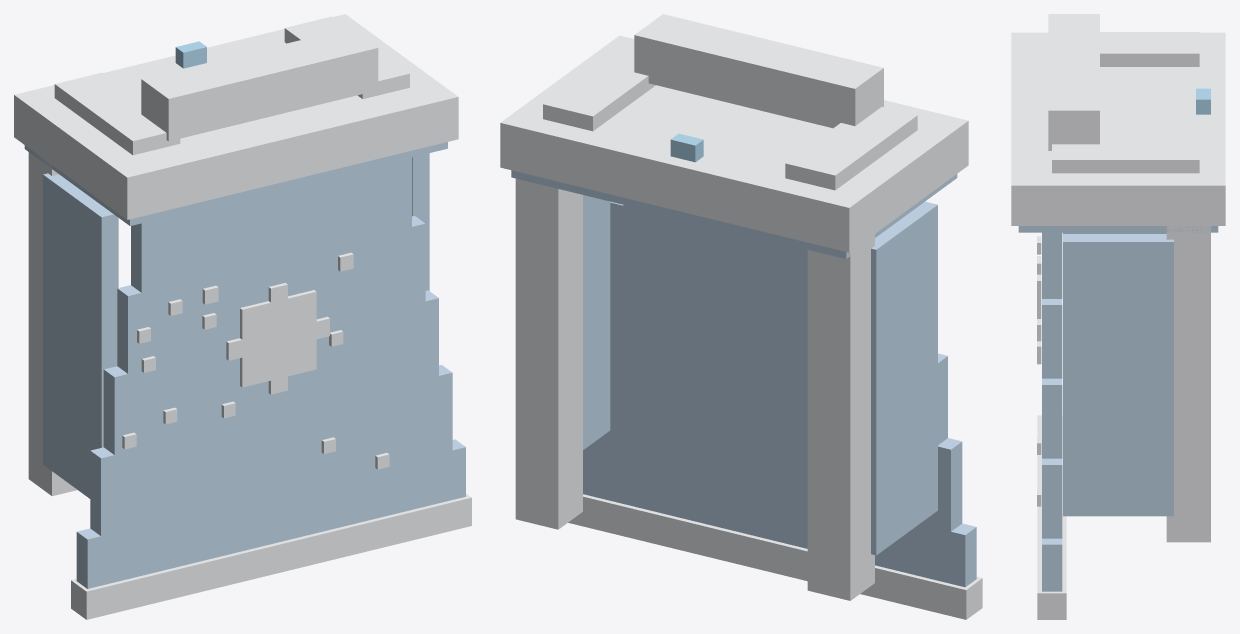
Rendered from capa_neve.glb.
The picture shows the model from 3 angles, left to right: view 1: azimuth 30°, elevation 25°; view 2: azimuth 150°, elevation 25°; view 3: azimuth 270°, elevation 25°; orthographic projection. The views are drawn at different scales.
Visible parts, largest first — view 1: capa_neve; view 2: capa_neve; view 3: capa_neve.
Boxes of the visible parts, x1,y1,x2,y2 form: capa_neve: (14, 14, 471, 619); capa_neve: (500, 14, 982, 619); capa_neve: (1011, 14, 1225, 619).
Bounding box in the file's own units: 1.14 × 1.4 × 0.58.
